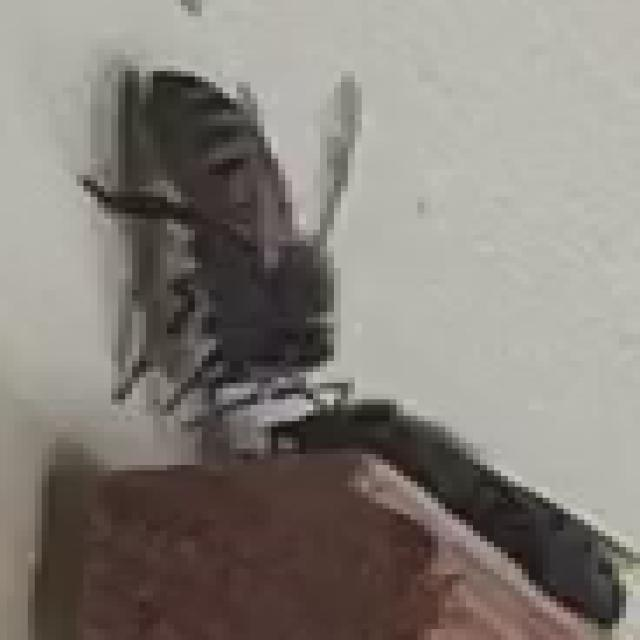honeybee: (60, 51, 425, 421)
